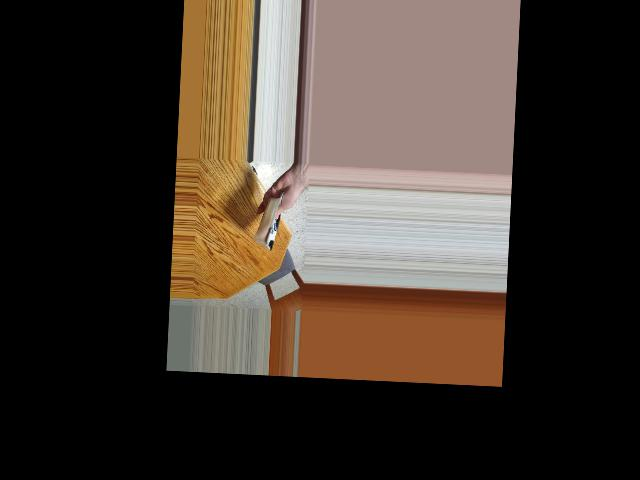cheese: (248, 195, 294, 249)
